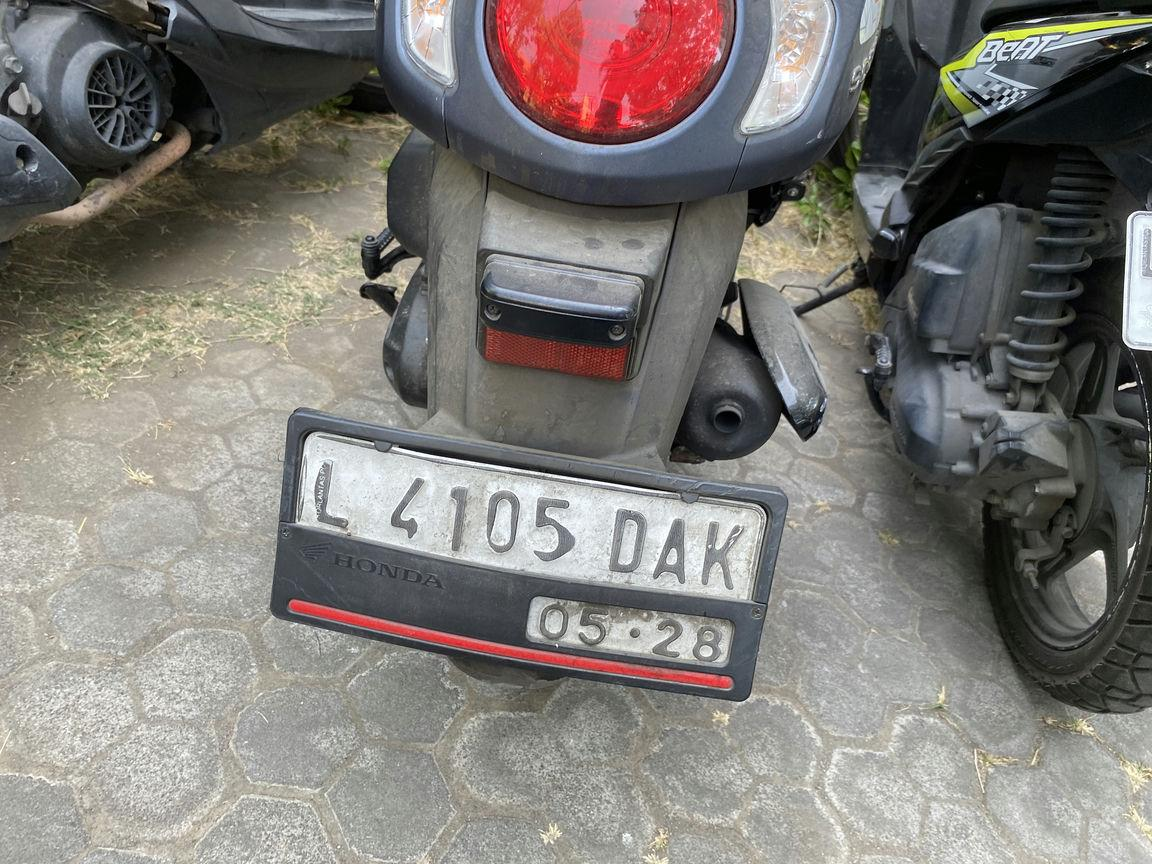plat: (270, 410, 785, 700)
